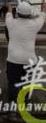hard-hat: (14, 0, 31, 16)
